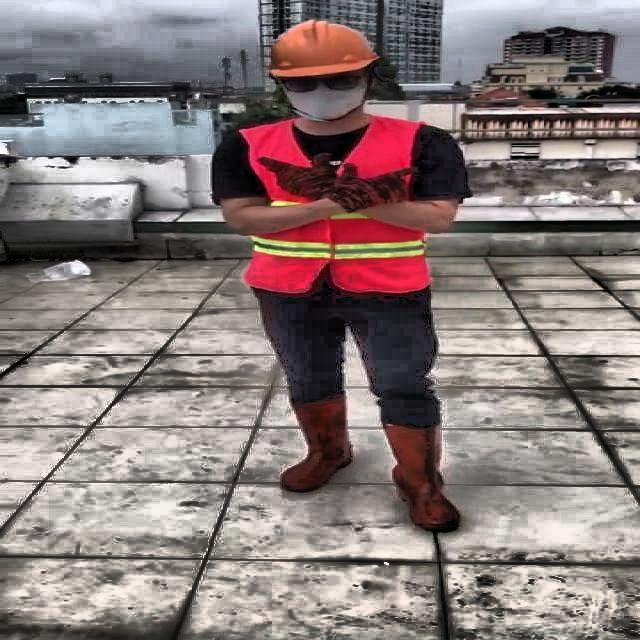safety_helmet: (258, 16, 380, 78)
safety_jacket: (237, 118, 430, 293)
